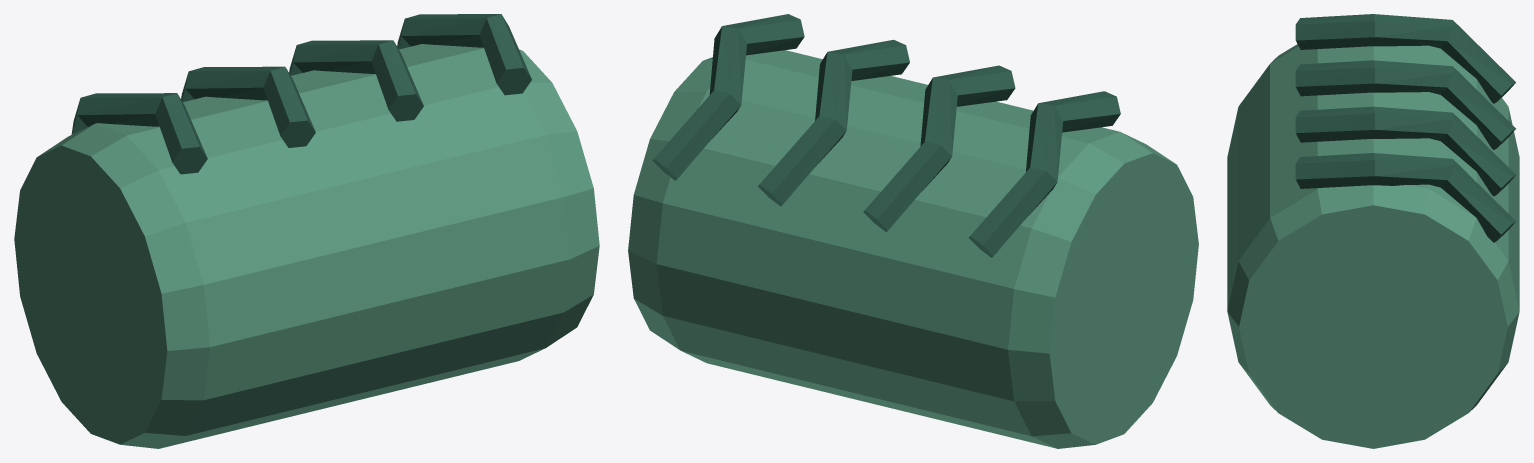
Rendered from vge_item_oxyalgae_c.obj.
The picture shows the model from 3 angles, left to right: view 1: azimuth 30°, elevation 25°; view 2: azimuth 150°, elevation 25°; view 3: azimuth 270°, elevation 25°; orthographic projection. The views are drawn at different scales.
Visible parts, largest first — view 1: vge_item_oxyalgae_c_0, vge_item_oxyalgae_c_3, vge_item_oxyalgae_c_5, vge_item_oxyalgae_c_4, vge_item_oxyalgae_c_6; view 2: vge_item_oxyalgae_c_0, vge_item_oxyalgae_c_4, vge_item_oxyalgae_c_6, vge_item_oxyalgae_c_3, vge_item_oxyalgae_c_5; view 3: vge_item_oxyalgae_c_0, vge_item_oxyalgae_c_6, vge_item_oxyalgae_c_4, vge_item_oxyalgae_c_5, vge_item_oxyalgae_c_3.
Part boxes in pixels (x1,y1,x2,y2): vge_item_oxyalgae_c_0: (14, 44, 599, 448); vge_item_oxyalgae_c_3: (71, 93, 207, 174); vge_item_oxyalgae_c_5: (289, 40, 423, 121); vge_item_oxyalgae_c_4: (181, 66, 315, 147); vge_item_oxyalgae_c_6: (397, 14, 531, 95); vge_item_oxyalgae_c_0: (628, 50, 1198, 448); vge_item_oxyalgae_c_4: (863, 65, 1015, 232); vge_item_oxyalgae_c_6: (652, 14, 804, 180); vge_item_oxyalgae_c_3: (968, 91, 1120, 257); vge_item_oxyalgae_c_5: (758, 39, 909, 206); vge_item_oxyalgae_c_0: (1227, 44, 1519, 448); vge_item_oxyalgae_c_6: (1295, 153, 1515, 242); vge_item_oxyalgae_c_4: (1295, 60, 1515, 149); vge_item_oxyalgae_c_5: (1295, 106, 1515, 196); vge_item_oxyalgae_c_3: (1295, 14, 1515, 103).
Size of the model in its own units: 0.6 by 0.4393 by 0.4.
